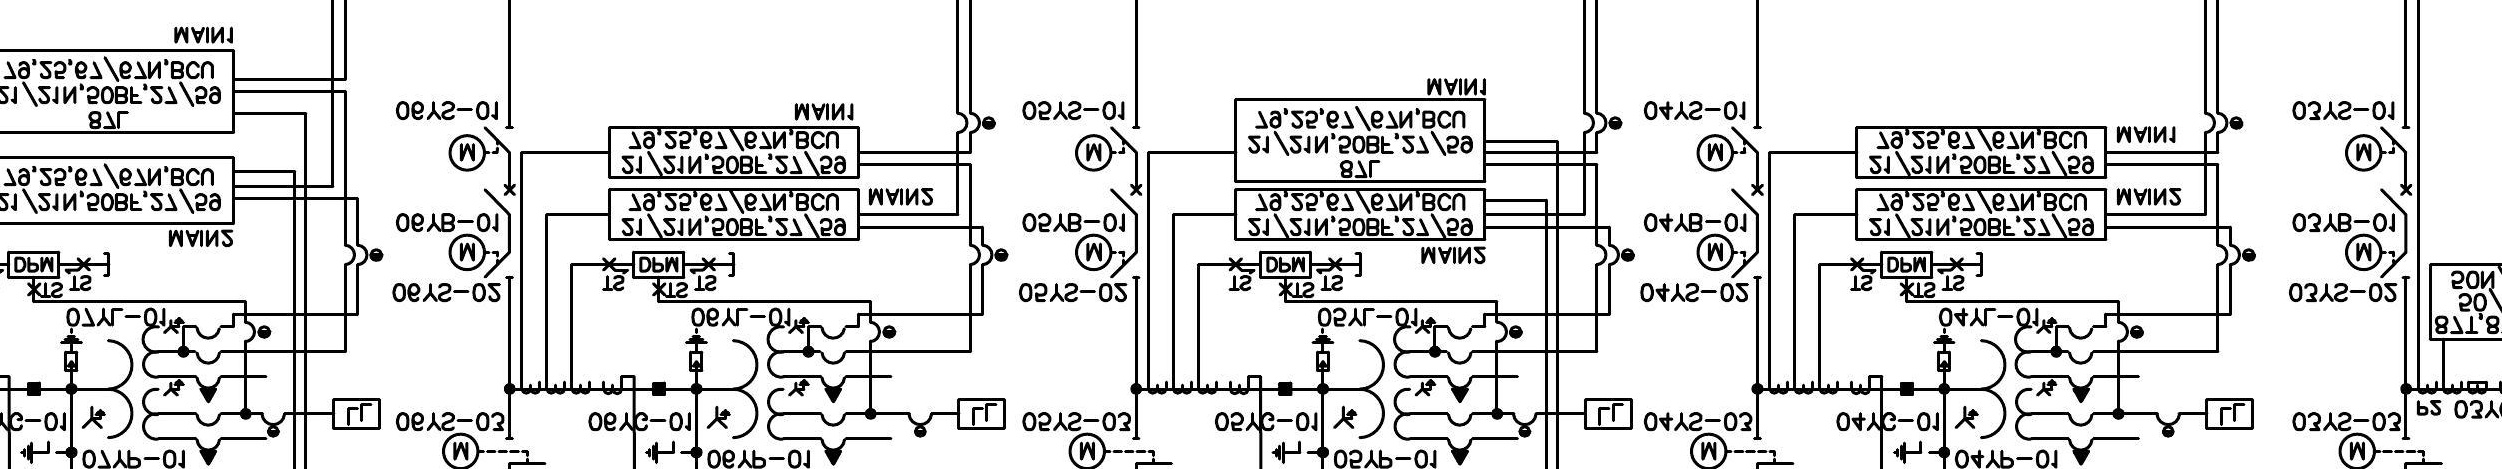115_1way_ds_w_motor: (447, 124, 515, 172), (1695, 124, 1763, 172), (1074, 124, 1141, 172), (447, 233, 515, 279), (2344, 126, 2411, 172), (2344, 233, 2411, 279), (1074, 233, 1141, 279), (1695, 233, 1762, 279)
115_breaker: (483, 183, 517, 215), (1109, 183, 1142, 215), (1731, 183, 1765, 215), (2379, 183, 2413, 215)
115_gs: (19, 440, 61, 466), (643, 440, 685, 466), (1270, 440, 1312, 466), (1891, 440, 1932, 466)
115_la: (59, 327, 85, 372), (1310, 327, 1336, 372), (685, 327, 708, 372), (1932, 327, 1956, 372)
115_vt_3p: (705, 316, 847, 467), (1953, 316, 2095, 466), (81, 316, 222, 467), (1332, 316, 1473, 466)
DPM: (6, 250, 61, 279), (1257, 250, 1312, 279), (632, 250, 685, 279), (1880, 250, 1932, 279)
LL: (956, 397, 1007, 431), (2204, 397, 2255, 431), (332, 397, 381, 431), (1583, 397, 1632, 431)
